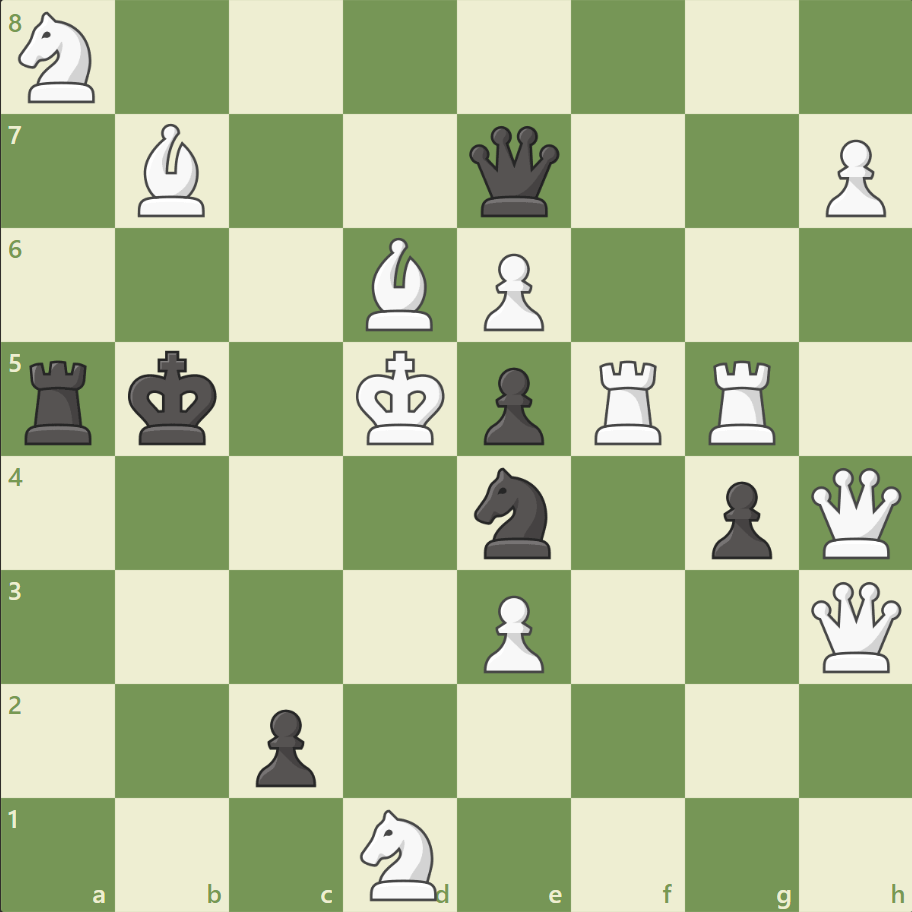B: (358, 233, 442, 336), (131, 120, 215, 222)
K: (351, 344, 451, 452)
N: (351, 802, 449, 904), (11, 7, 108, 110)
P: (474, 246, 549, 337), (474, 586, 549, 677), (815, 132, 889, 223)
Q: (805, 576, 904, 676), (805, 463, 904, 562)
R: (587, 352, 670, 449), (700, 352, 783, 449)
k: (124, 344, 224, 452)
n: (465, 461, 562, 564)
p: (474, 359, 549, 450), (701, 473, 776, 564), (247, 700, 322, 791)
q: (464, 122, 563, 222)
r: (19, 352, 102, 449)
